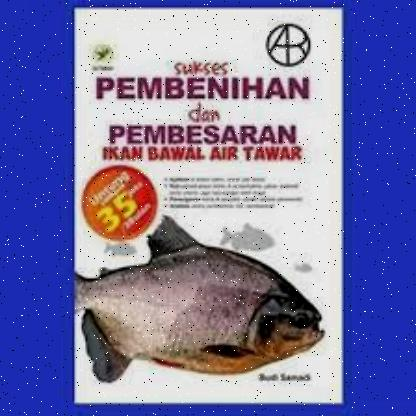ikan-pacu: (78, 237, 322, 379)
